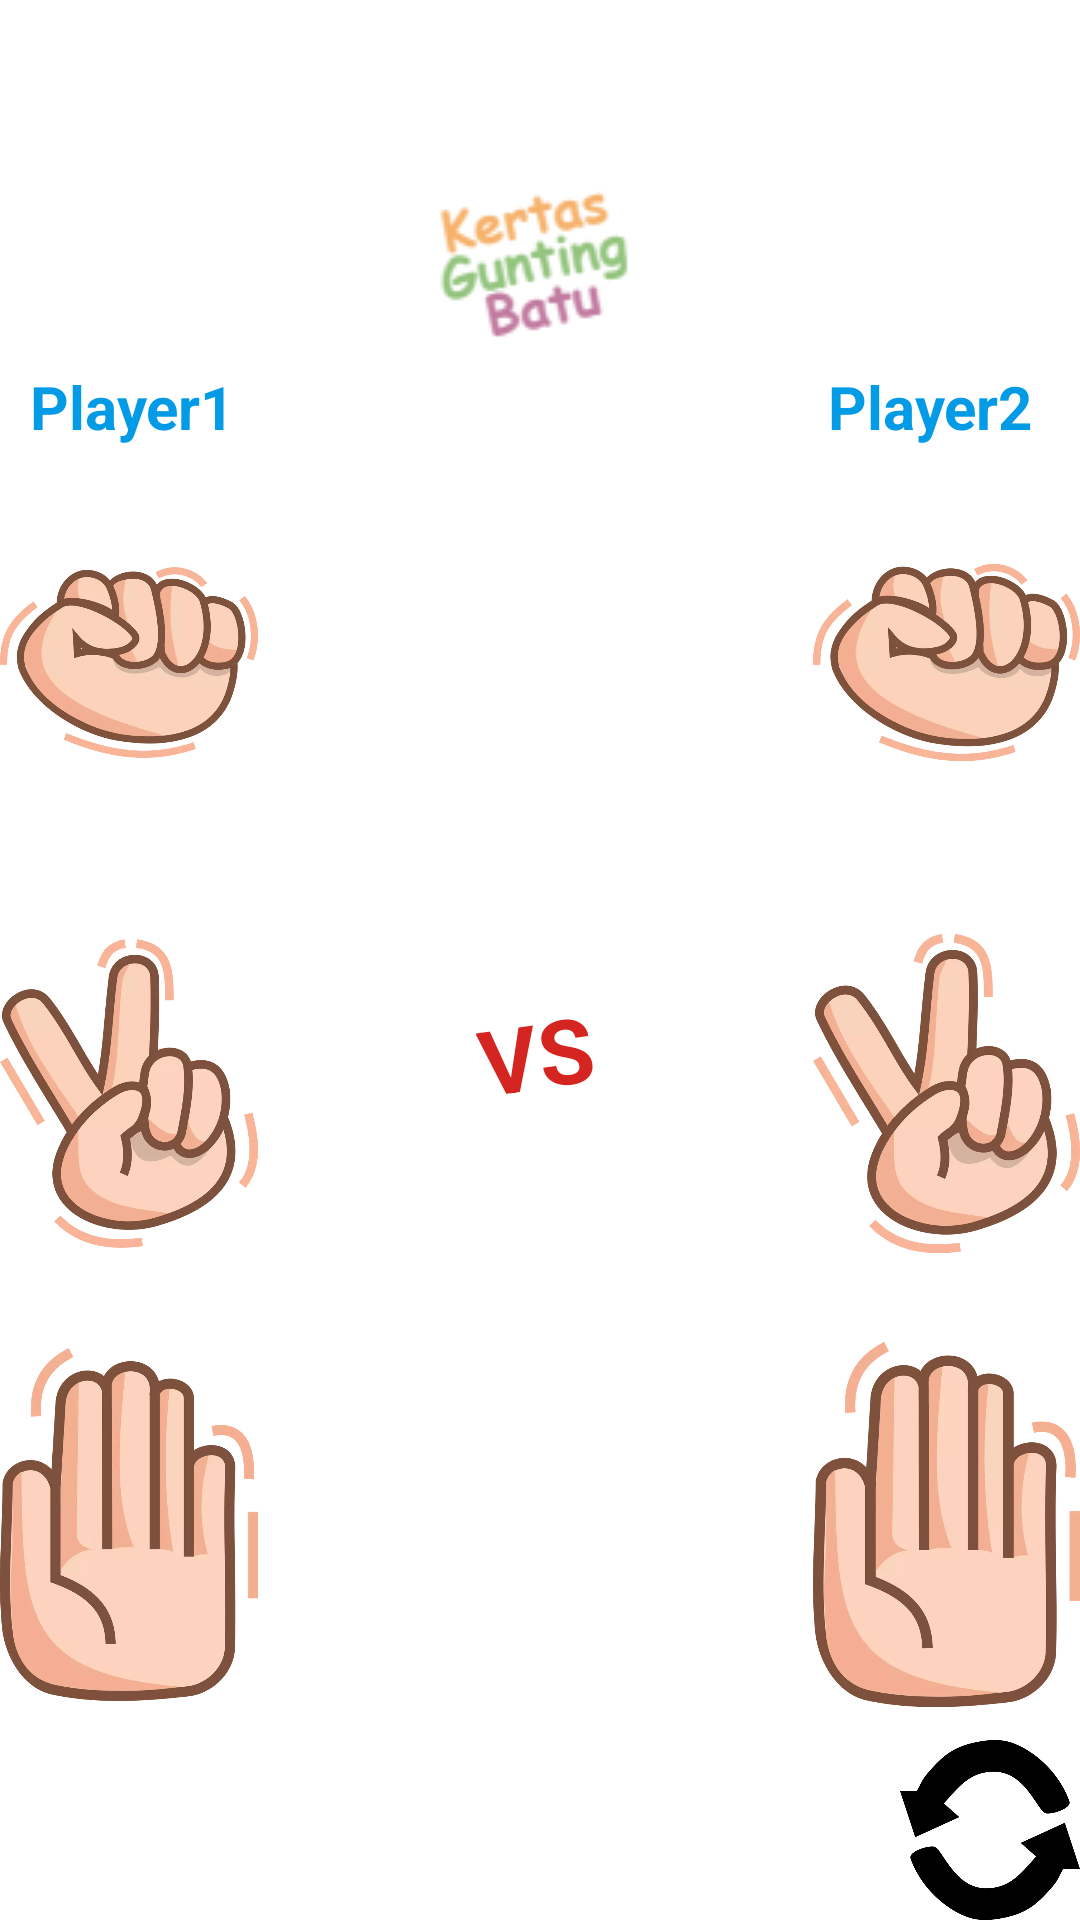

Screen size 1080px×1920px. Icon name, then its center in pixels as (x,y):
batu: (946,662), (129,662)
gunting: (946,1093), (129,1093)
refresh: (990,1830)
